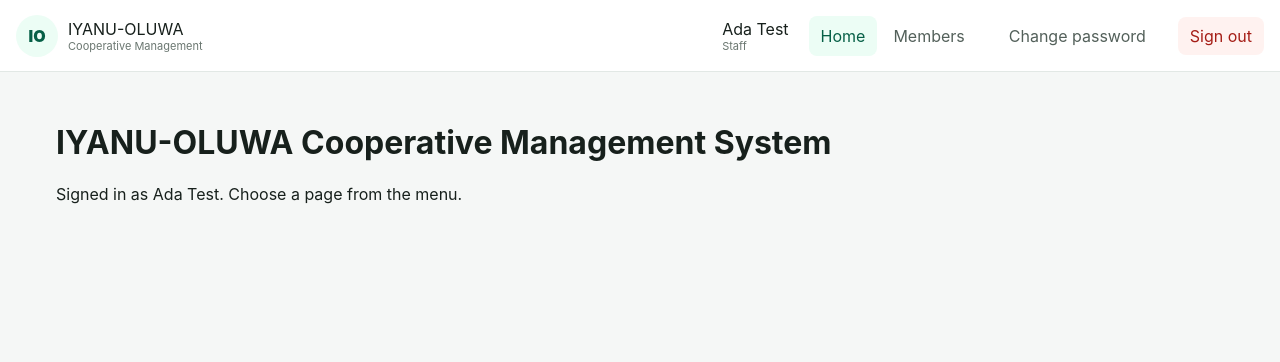
members screen (jsdom) › shows the message when the list cannot be read
The width and height of the screenshot is (1280, 362).
Click the button "Members" at (929, 36), box [881,16,977,56]
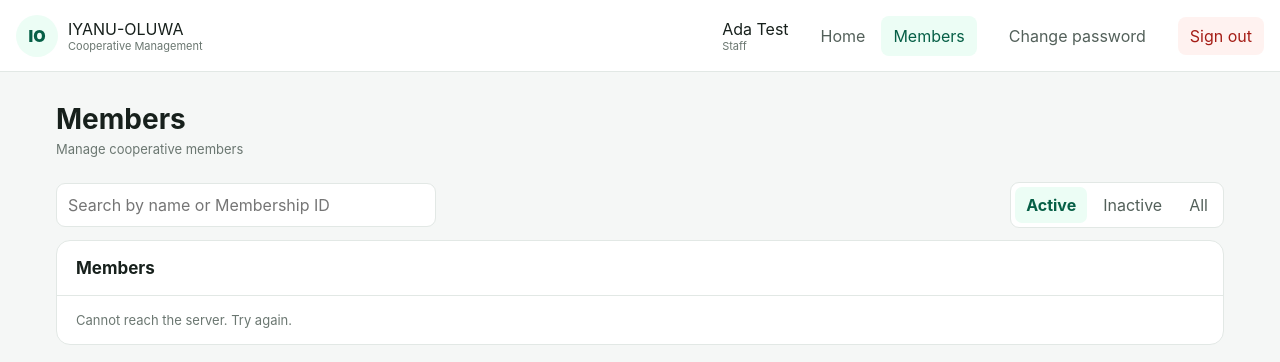
Result: the message "Cannot reach the server. Try again." is shown at [76,312,292,328]
